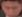without_mask: (1, 2, 22, 17)
